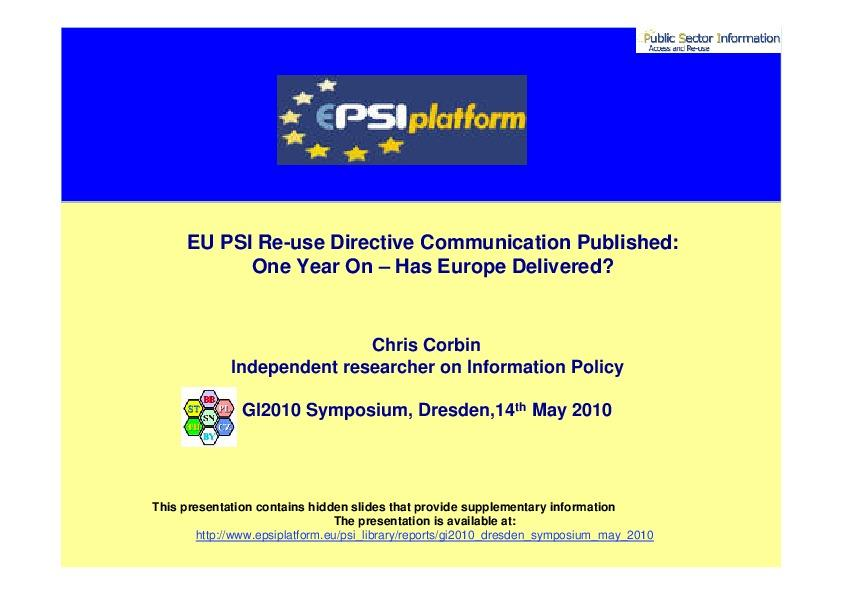subtitle: (197, 317, 645, 455), (157, 215, 715, 305), (144, 493, 677, 558)
title: (196, 27, 780, 192)
